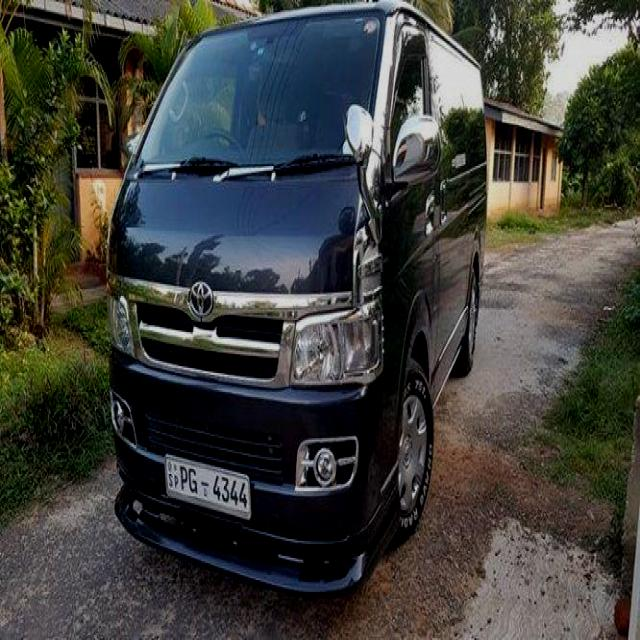Van: (116, 19, 444, 594)
